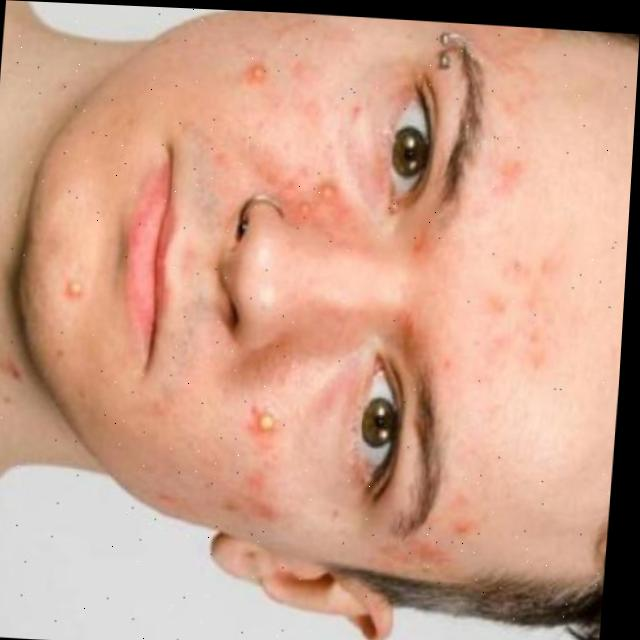Acne: (175, 53, 380, 211), (427, 160, 552, 398), (195, 398, 290, 520), (397, 492, 491, 582), (60, 272, 90, 300)
